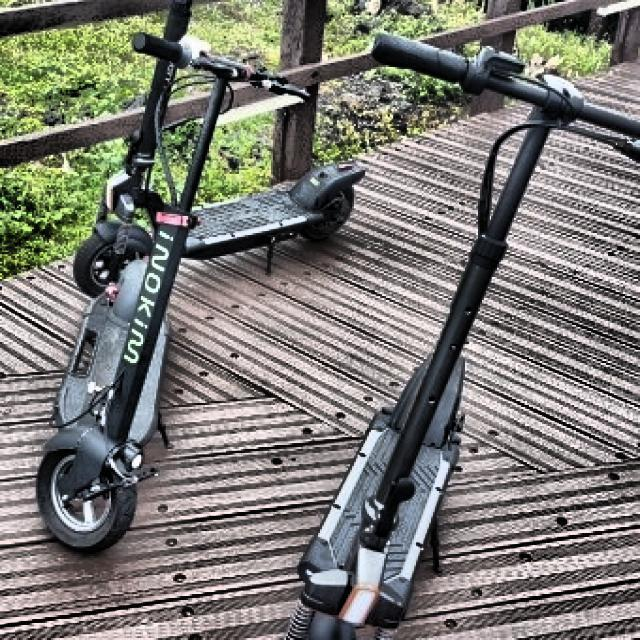bike: (34, 1, 640, 559)
